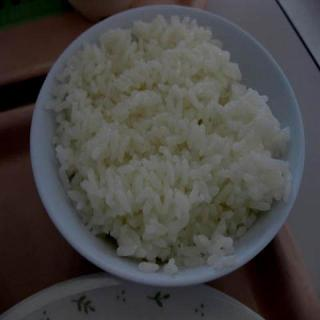Nasi: (43, 13, 296, 277)
